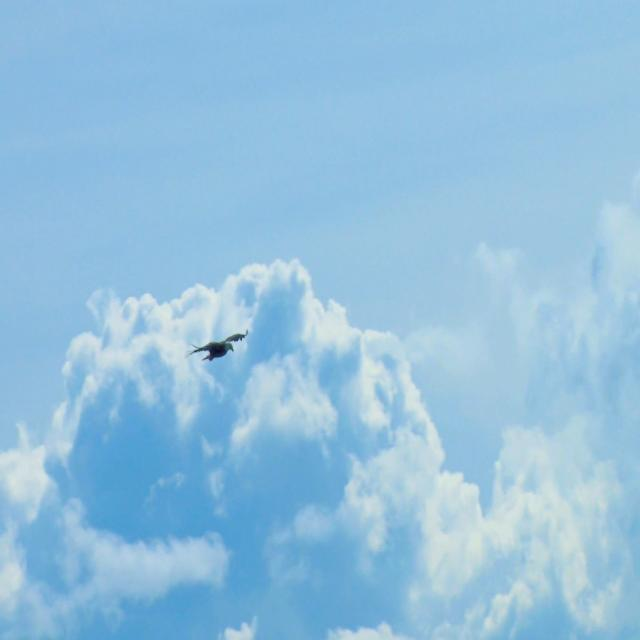bird: (192, 312, 250, 382)
